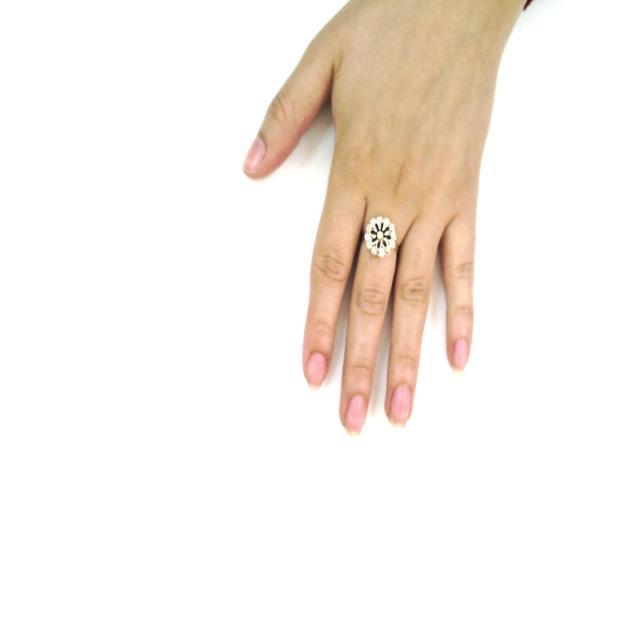Fingernail: (390, 385, 410, 426), (346, 395, 366, 435), (245, 138, 264, 172), (308, 353, 326, 386), (453, 340, 467, 371)
